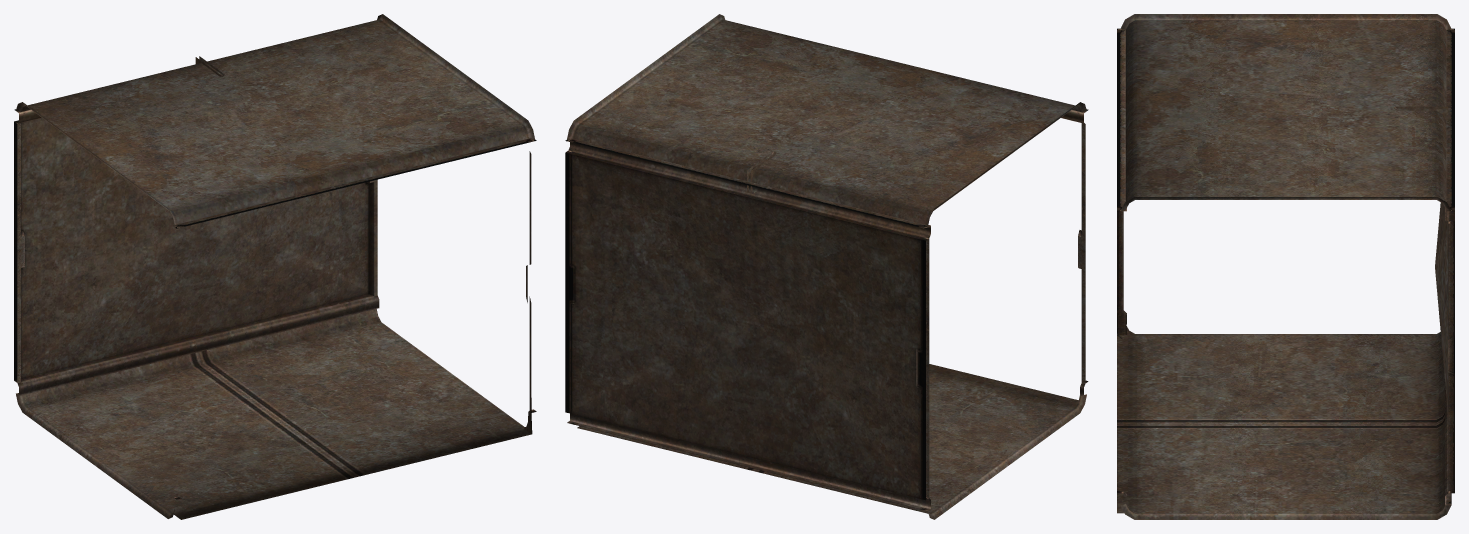
The model's file is vent_shaft_straight_vent_side_rusty.dae.
3 renders of one model, left to right at view 1: azimuth 30°, elevation 25°; view 2: azimuth 150°, elevation 25°; view 3: azimuth 270°, elevation 25°, orthographic. The views are drawn at different scales.
Visible parts, largest first — view 1: straight_vent_side; view 2: straight_vent_side; view 3: straight_vent_side.
Boxes of the visible parts, box(x1,y1,x2,y2) form: straight_vent_side: box(14, 14, 536, 519); straight_vent_side: box(565, 14, 1088, 519); straight_vent_side: box(1117, 14, 1454, 519).
Bounding box in the file's own units: 2 × 1.65 × 1.56.
